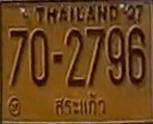0: (31, 29, 49, 86)
2: (65, 29, 85, 87)
6: (127, 27, 147, 85)
7: (86, 28, 105, 86), (10, 29, 28, 87)
9: (107, 28, 125, 85)
SKW: (52, 92, 112, 122)
